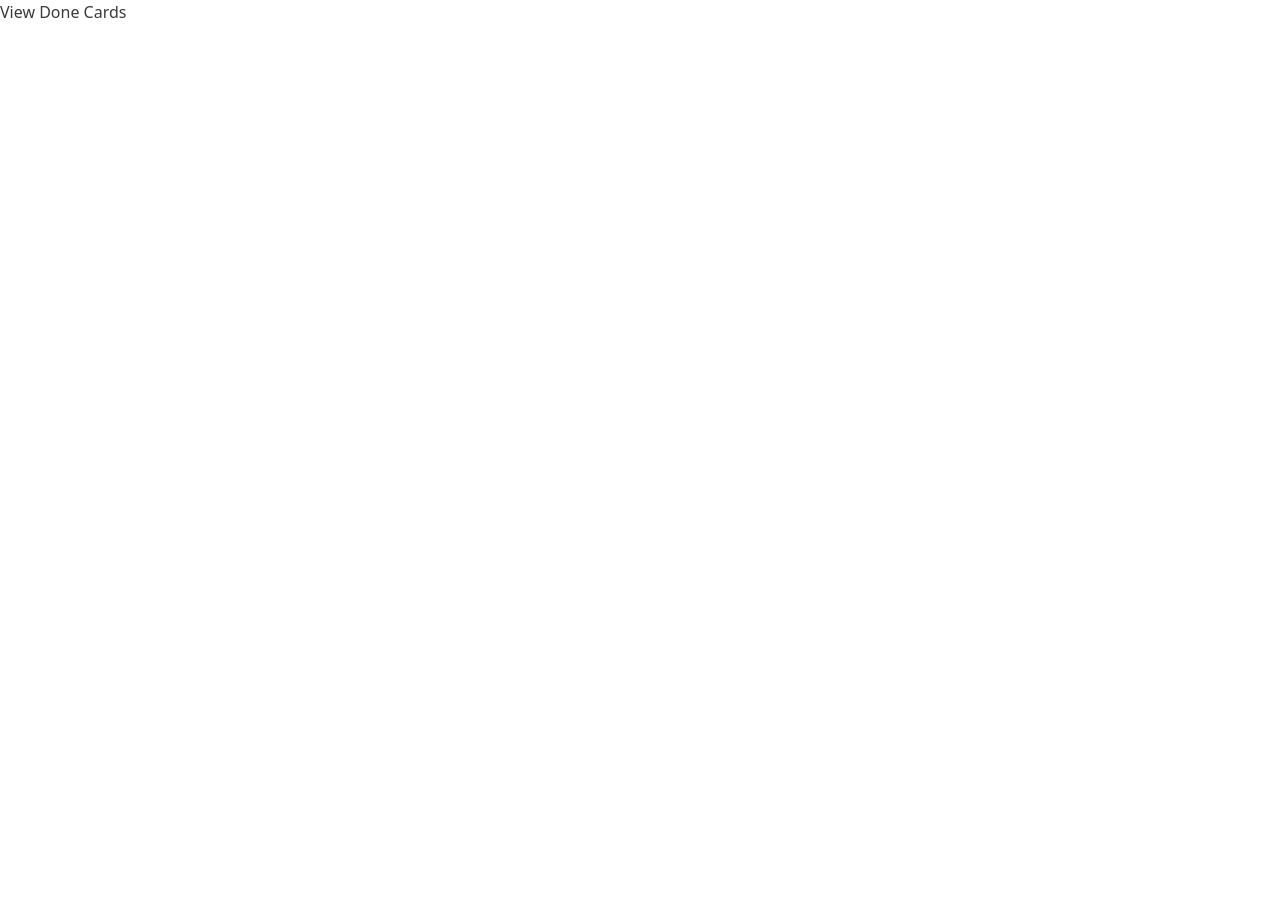
Test case: ViewStatusDialog › shows empty state when no cards found
Step 1. Click the button "View Done Cards" → click(63, 12), box [0,0,126,24]
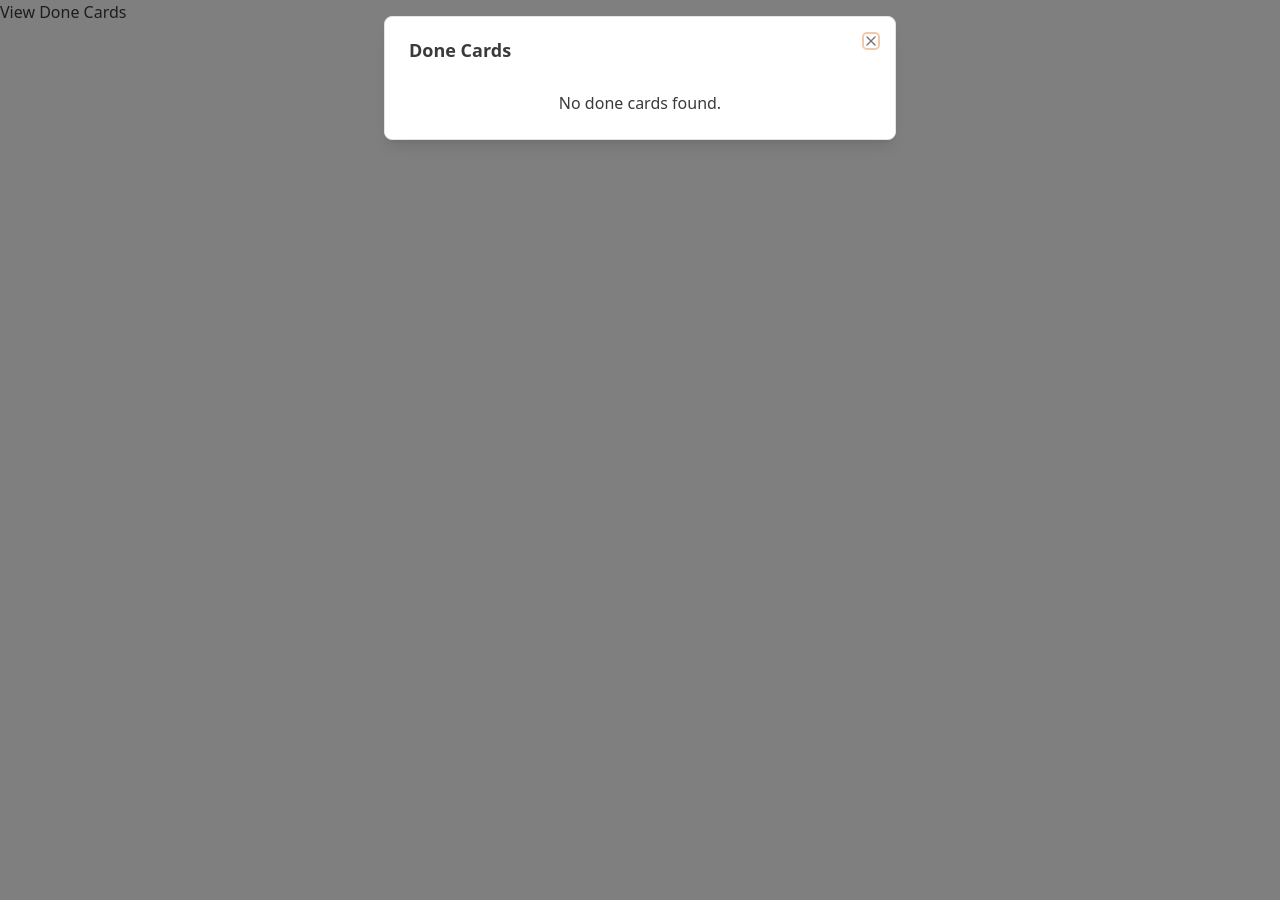
Expected: the text "No done cards found." is shown, [559,92,721,114]
